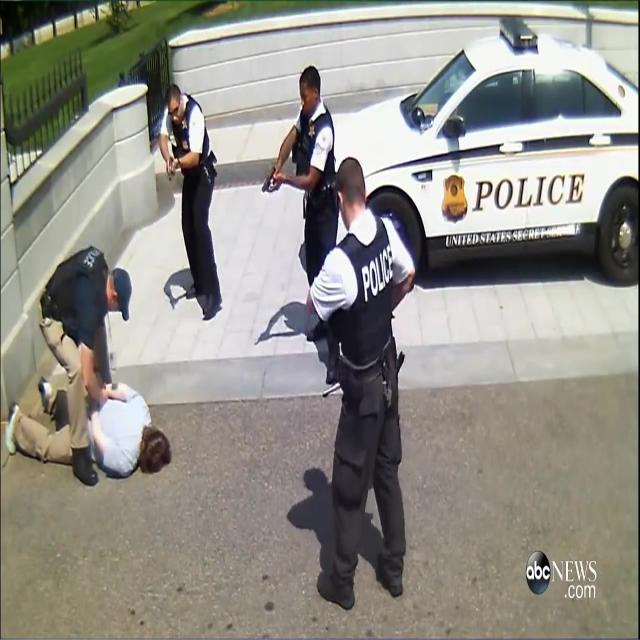Weapon: (251, 149, 295, 247), (158, 139, 188, 192)
